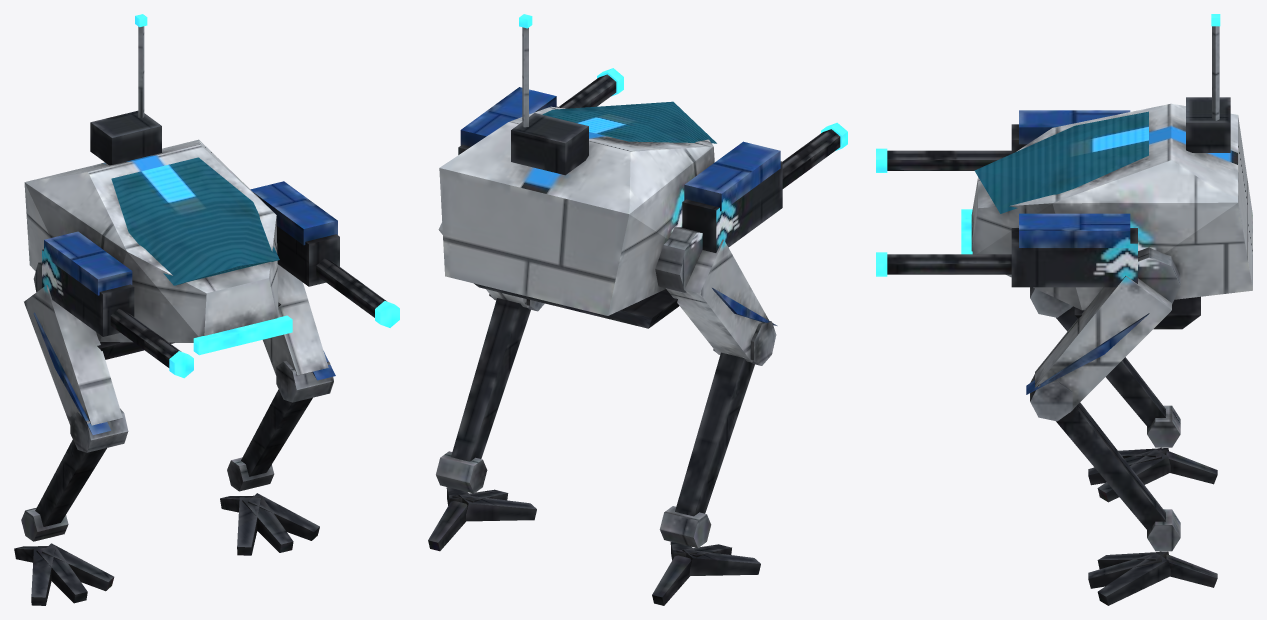
Rendered from u_ranger1_w.glb.
3 views of the same model, side by side, from view 1: azimuth 30°, elevation 25°; view 2: azimuth 150°, elevation 25°; view 3: azimuth 270°, elevation 25° (orthographic). The views are drawn at different scales.
Visible parts, largest first — view 1: u_ranger1_w; view 2: u_ranger1_w; view 3: u_ranger1_w.
Boxes of the visible parts, x1,y1,x2,y2 form: u_ranger1_w: (14, 14, 399, 605); u_ranger1_w: (428, 14, 847, 605); u_ranger1_w: (876, 14, 1252, 605).
Size of the model in its own units: 0.9264 by 1.57 by 1.02.
1 material, 1 textured.
